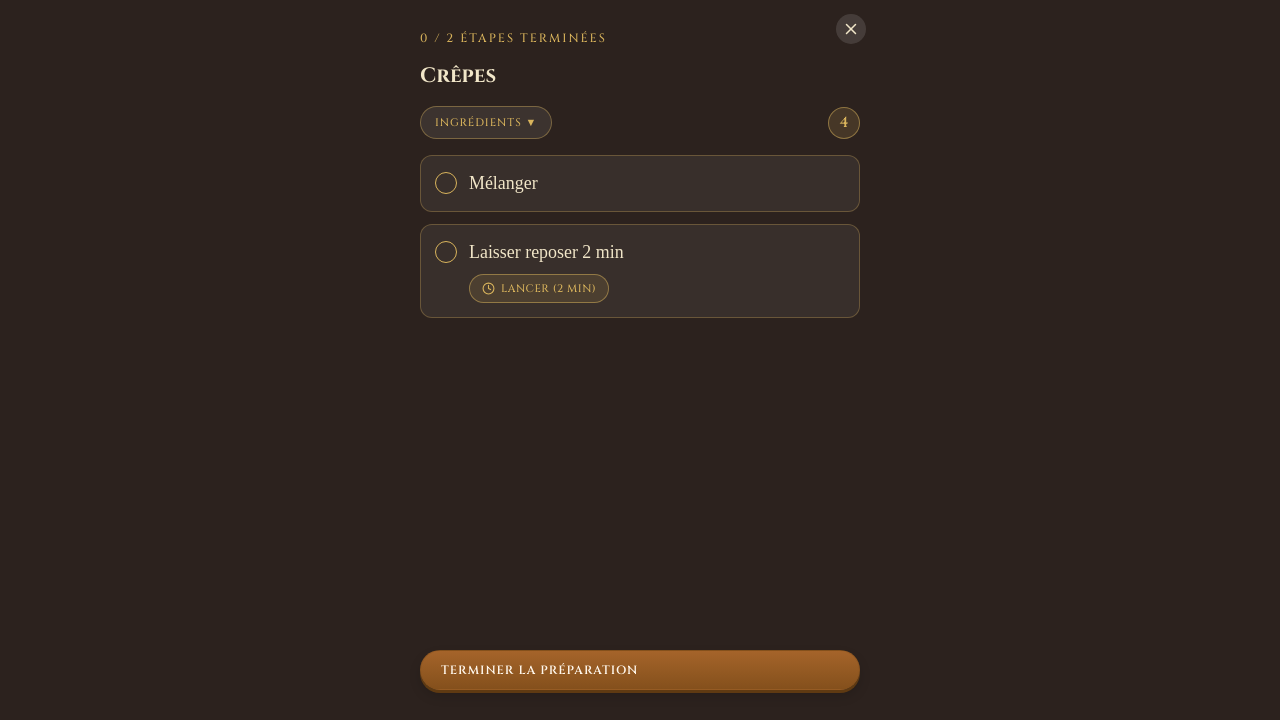
CookMode — parts › Échap referme le sélecteur
Click the button "4" at (844, 122), box [829,108,859,138]
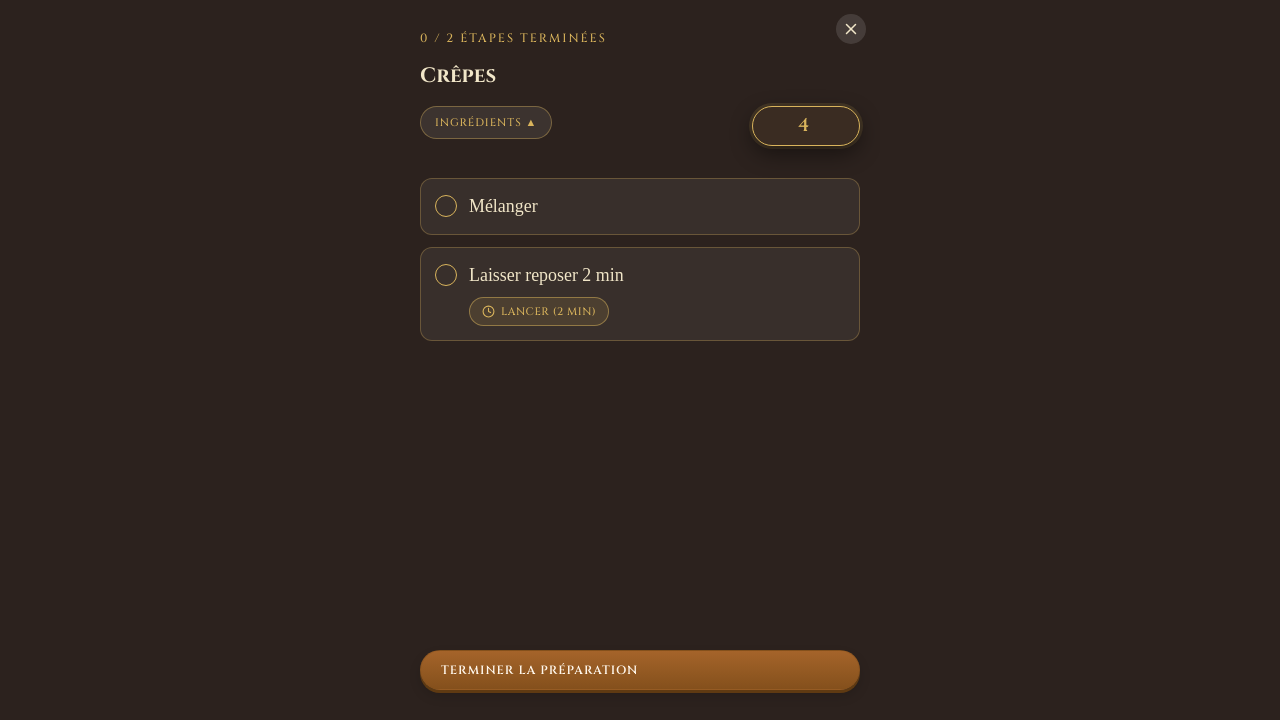
Press Escape
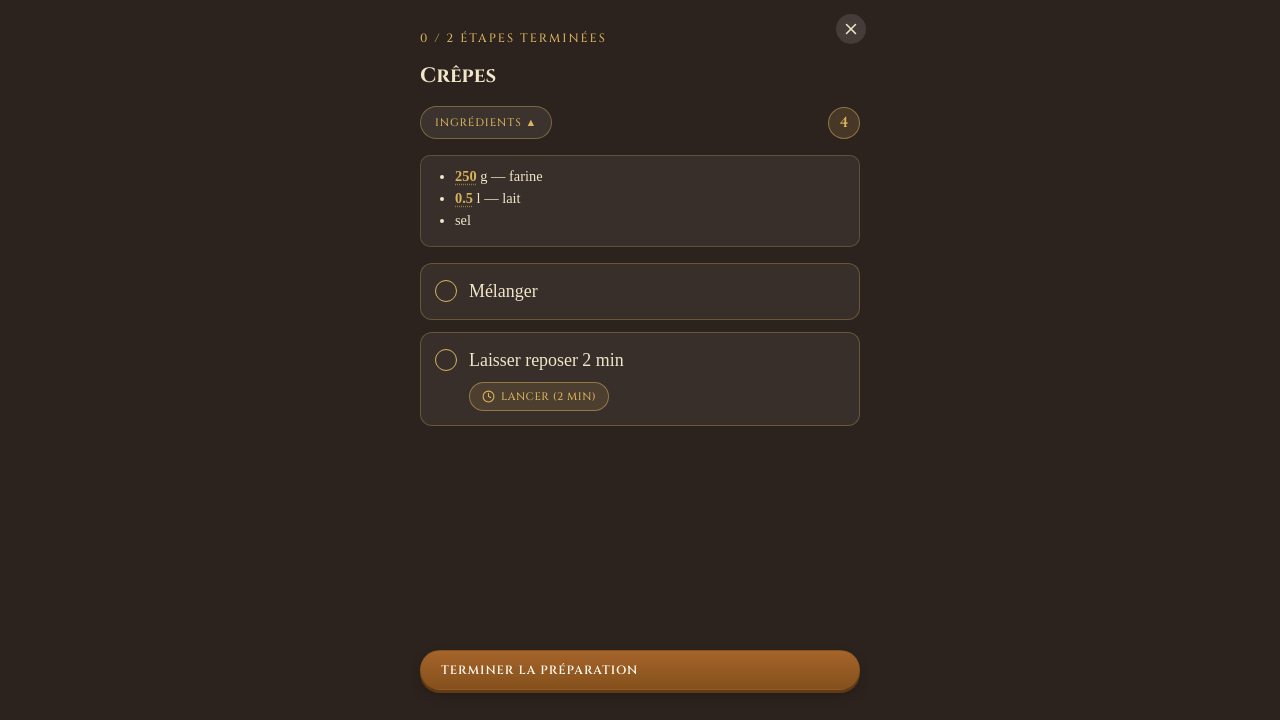
Result: the button "4" is collapsed at [829,108,859,138]
